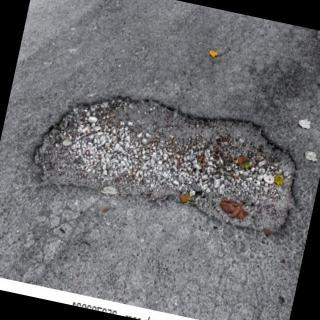pothole: (38, 98, 296, 230)
